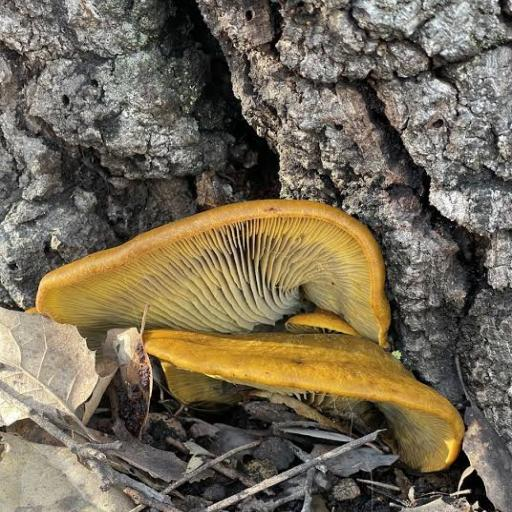Jack O Lantern Mushroom: (131, 307, 472, 471), (33, 199, 389, 340)
